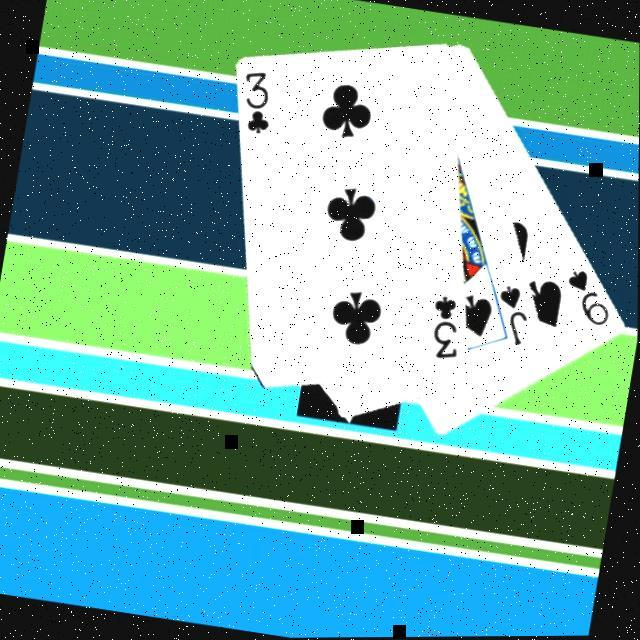3C: (235, 64, 283, 139), (425, 290, 473, 364)
9S: (560, 264, 623, 330)
JS: (491, 280, 539, 350)
